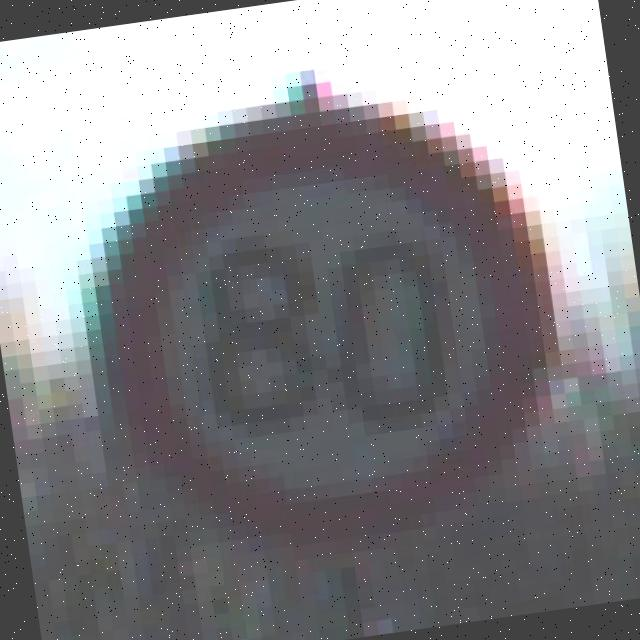Ograniczenie predkosci do 80: (75, 80, 579, 580)
